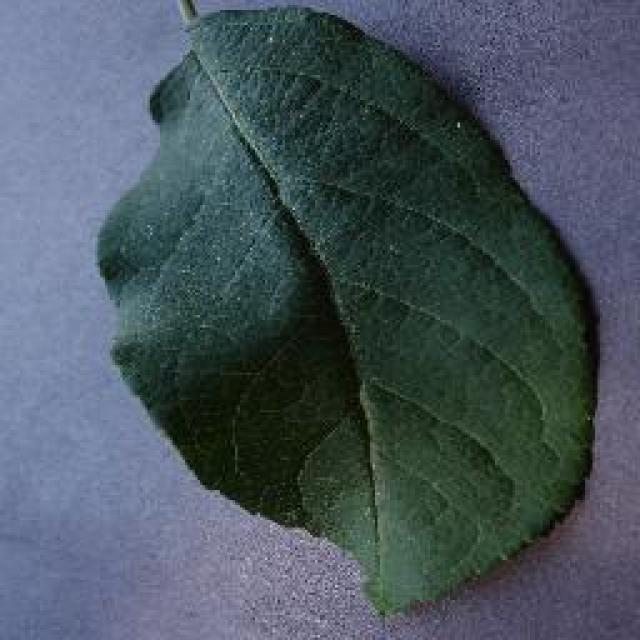apple healthy: (92, 0, 600, 615)
